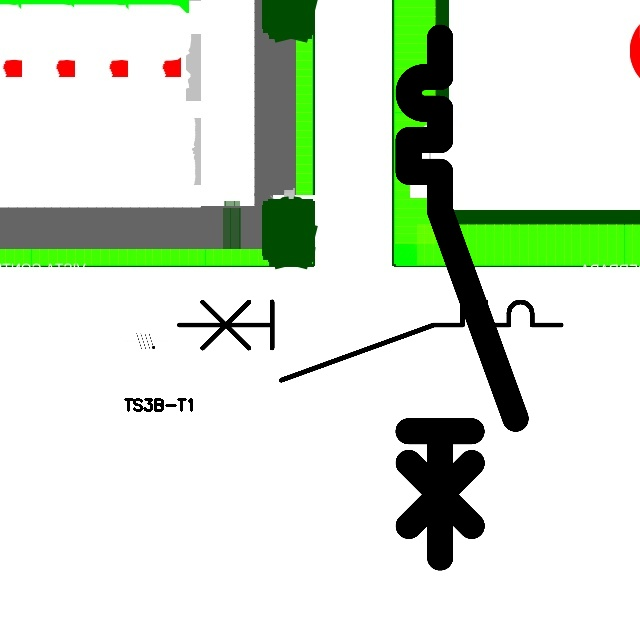interruptor_termomagnetico: (395, 24, 529, 571), (169, 292, 570, 390)
